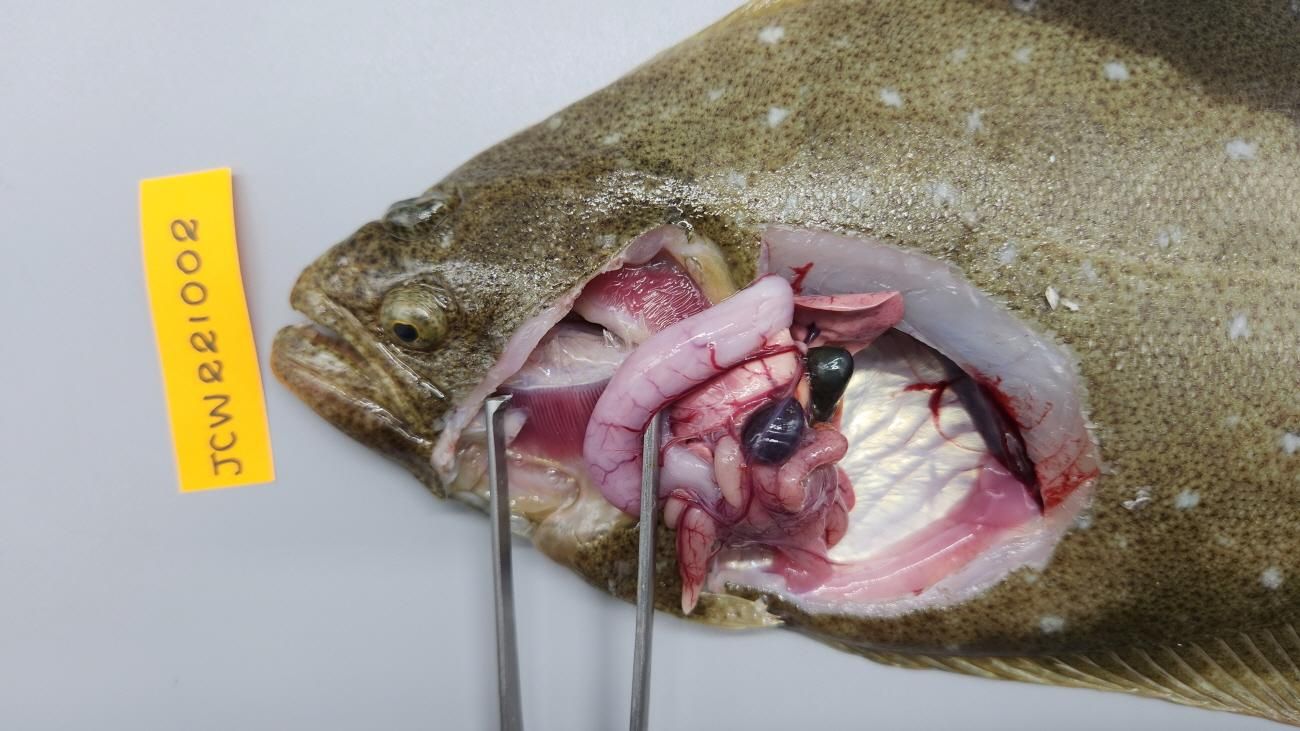POINN: (746, 420, 854, 549)
POSPN: (741, 397, 808, 464)
